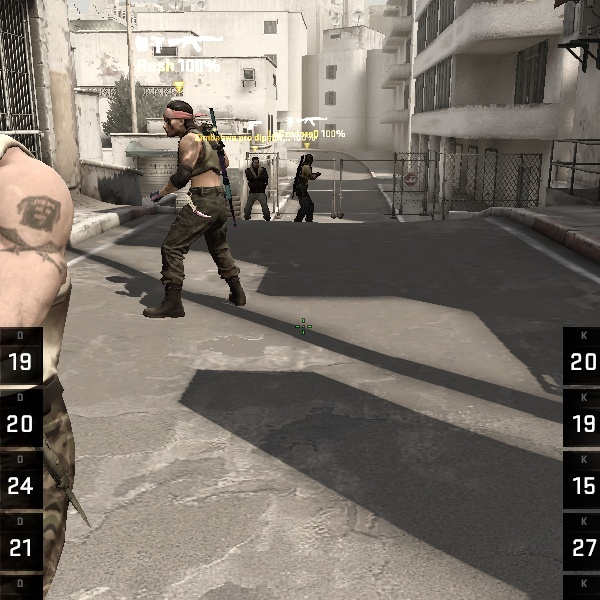t_body: (157, 98, 246, 316), (244, 156, 271, 222), (295, 153, 318, 222)
t_head: (162, 100, 195, 137), (304, 153, 314, 167), (251, 156, 260, 170)
